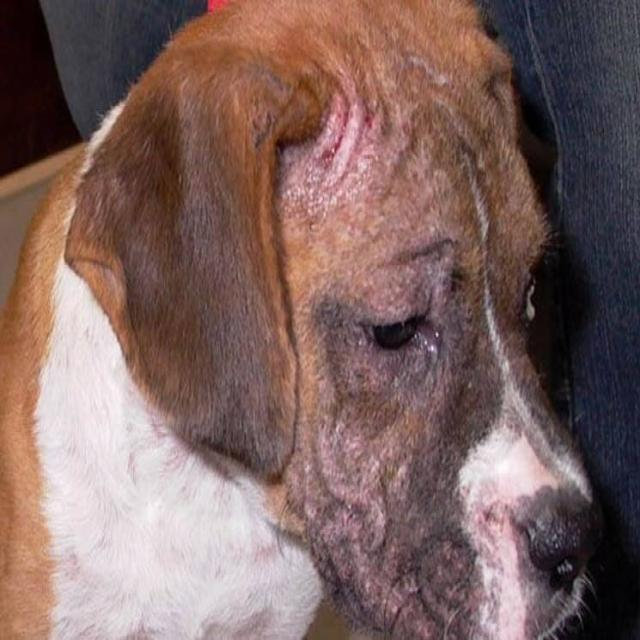mange: (268, 374, 421, 574), (344, 453, 476, 640), (282, 85, 374, 217)
